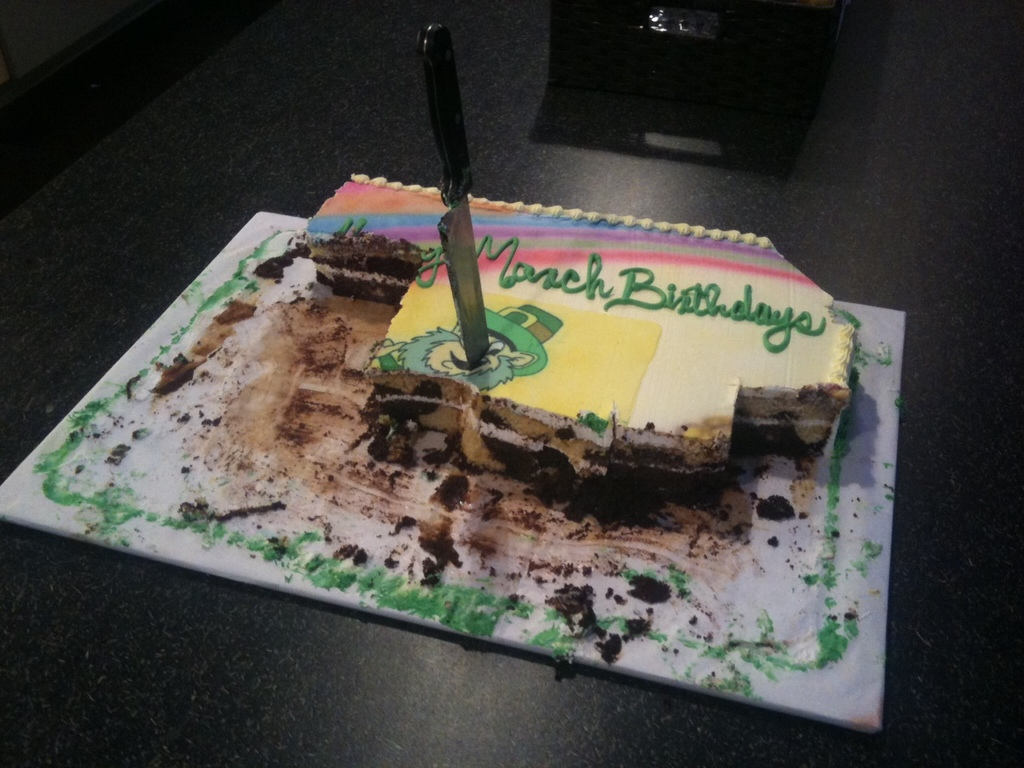cake: (302, 170, 858, 517)
